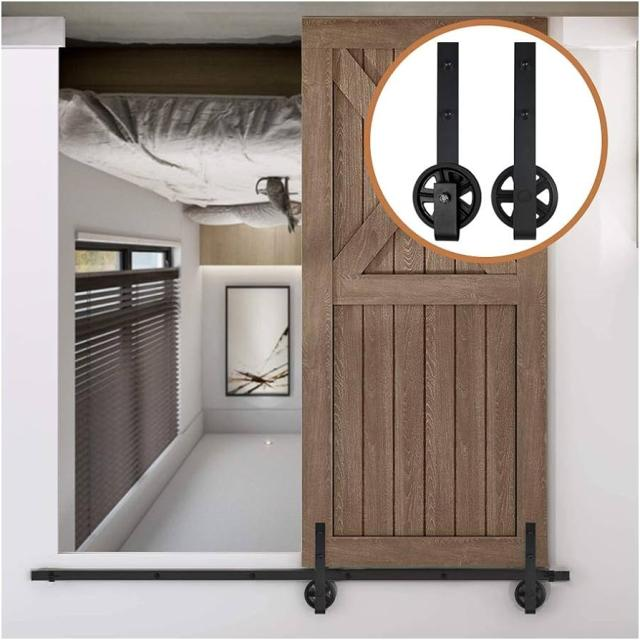door: (301, 16, 552, 571)
